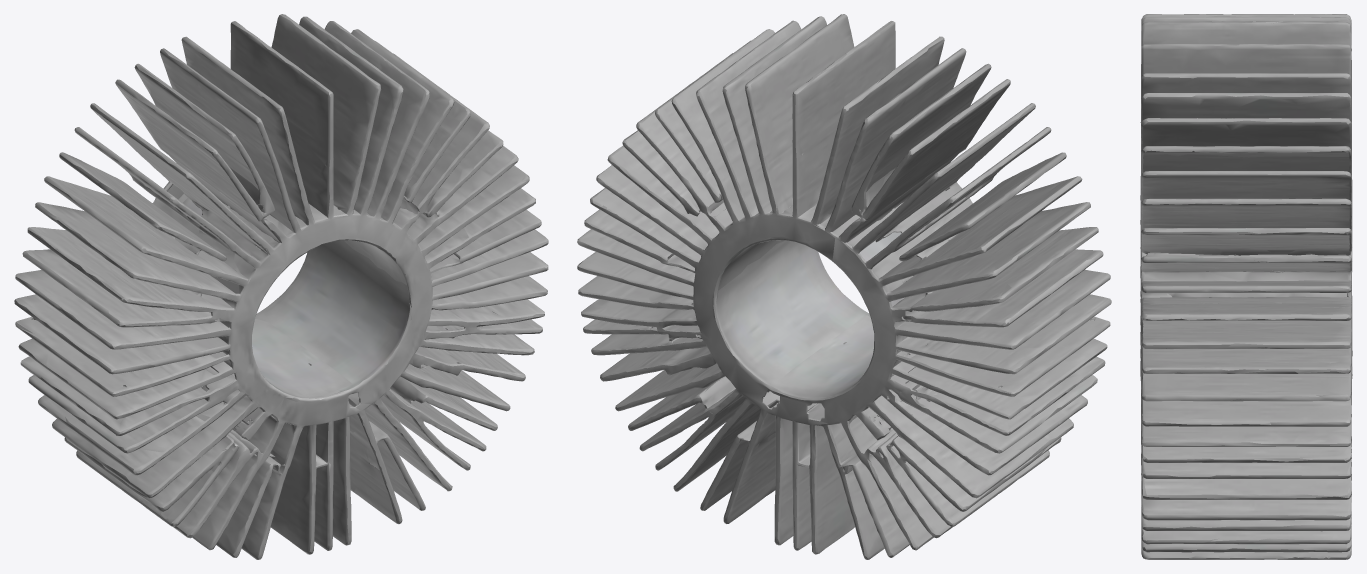
The picture shows the model from 3 angles, left to right: view 1: azimuth 30°, elevation 25°; view 2: azimuth 150°, elevation 25°; view 3: azimuth 270°, elevation 25°; orthographic projection. The views are drawn at different scales.
Parts seen in each view (by area): view 1: geometry_0; view 2: geometry_0; view 3: geometry_0.
Boxes of the visible parts, bbox=[...] form: geometry_0: bbox=[14, 14, 548, 559]; geometry_0: bbox=[577, 14, 1111, 559]; geometry_0: bbox=[1140, 14, 1352, 559].
Size of the model in its own units: 0.12 by 0.12 by 0.0476.
Materials: 1 (1 with a texture image).
